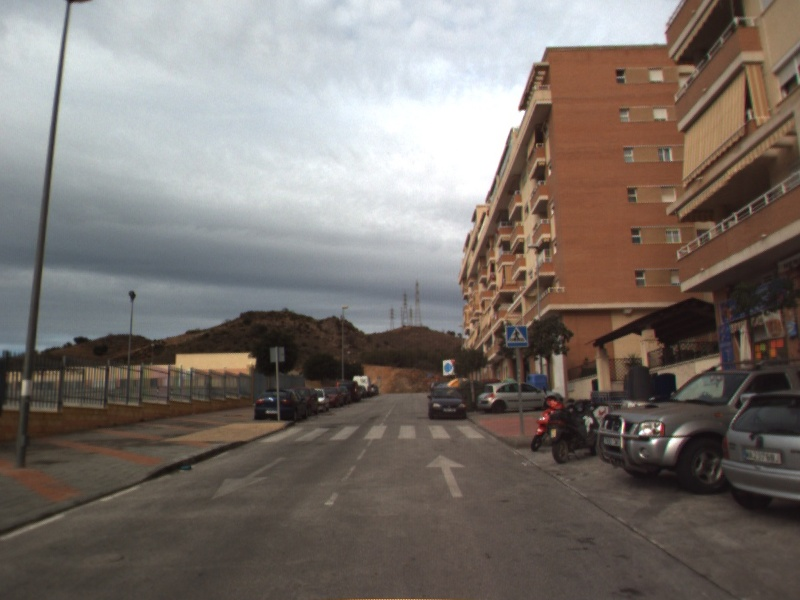STRAIGHT: (423, 452, 467, 499)
